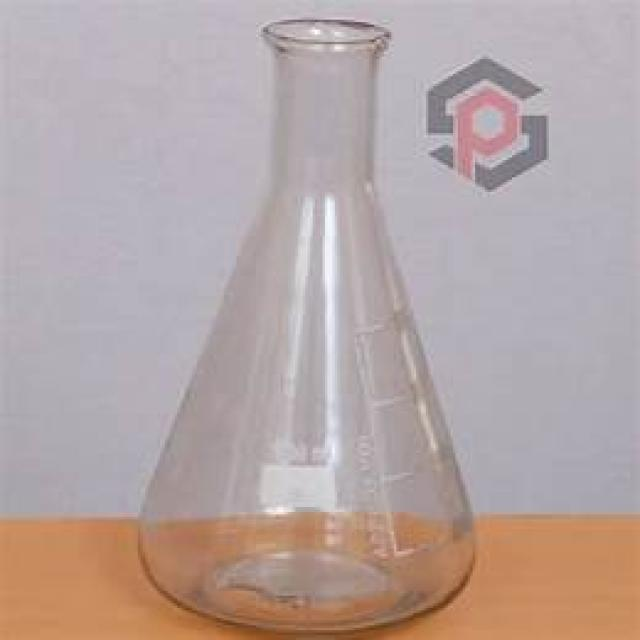Titrarion: (116, 23, 481, 634)
